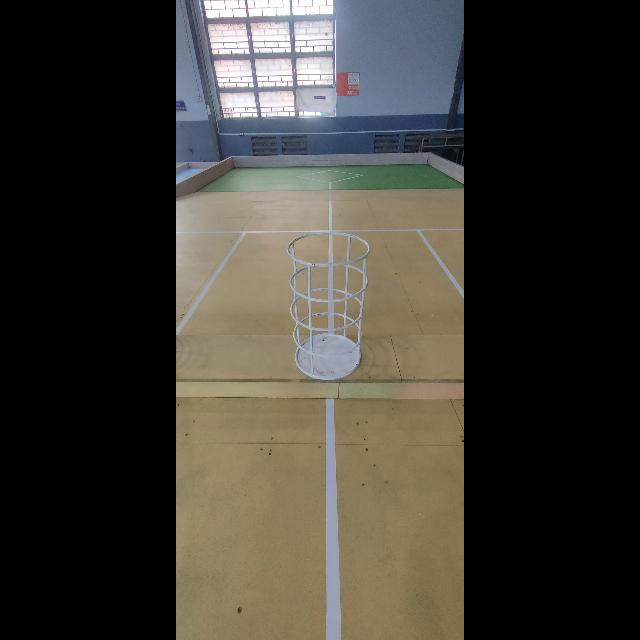S: (287, 232, 371, 381)
